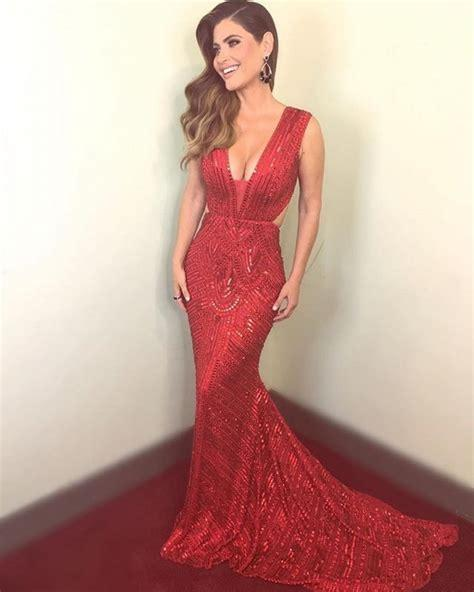dress: (161, 106, 459, 592)
